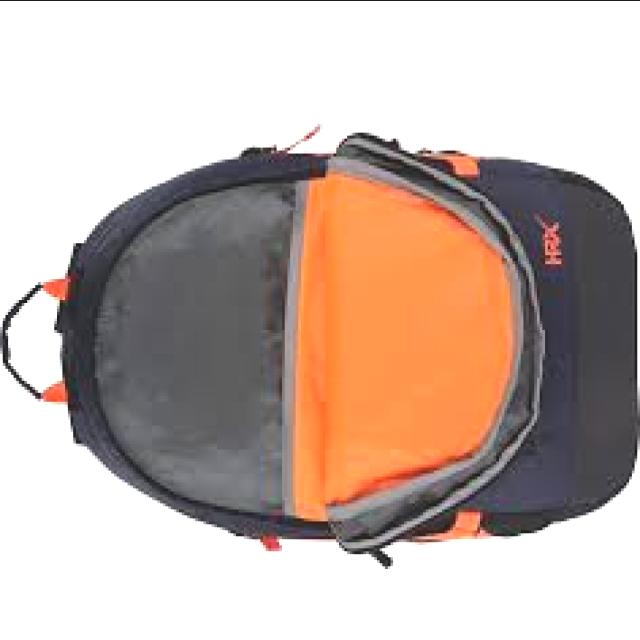backpack: (1, 130, 638, 570)
